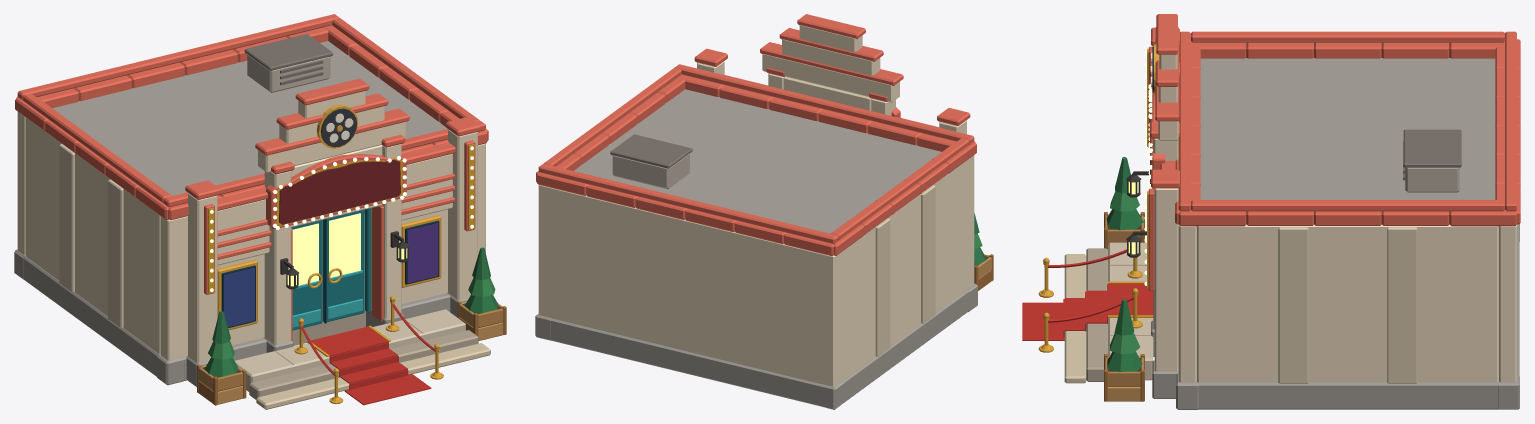
The model's file is cinema_exterior.glb.
3 views of the same model, side by side, from view 1: azimuth 30°, elevation 25°; view 2: azimuth 150°, elevation 25°; view 3: azimuth 270°, elevation 25° (orthographic). The views are drawn at different scales.
Parts seen in each view (by area): view 1: cinema_exterior, part_door_r, part_door_l; view 2: cinema_exterior; view 3: cinema_exterior.
Boxes of the visible parts, <box> form: cinema_exterior: <box>14,14,506,409</box>; part_door_r: <box>322,210,364,323</box>; part_door_l: <box>291,220,322,330</box>; cinema_exterior: <box>535,14,993,409</box>; cinema_exterior: <box>1022,14,1520,409</box>.
Size of the model in its own units: 6.92 by 5.33 by 8.25.
